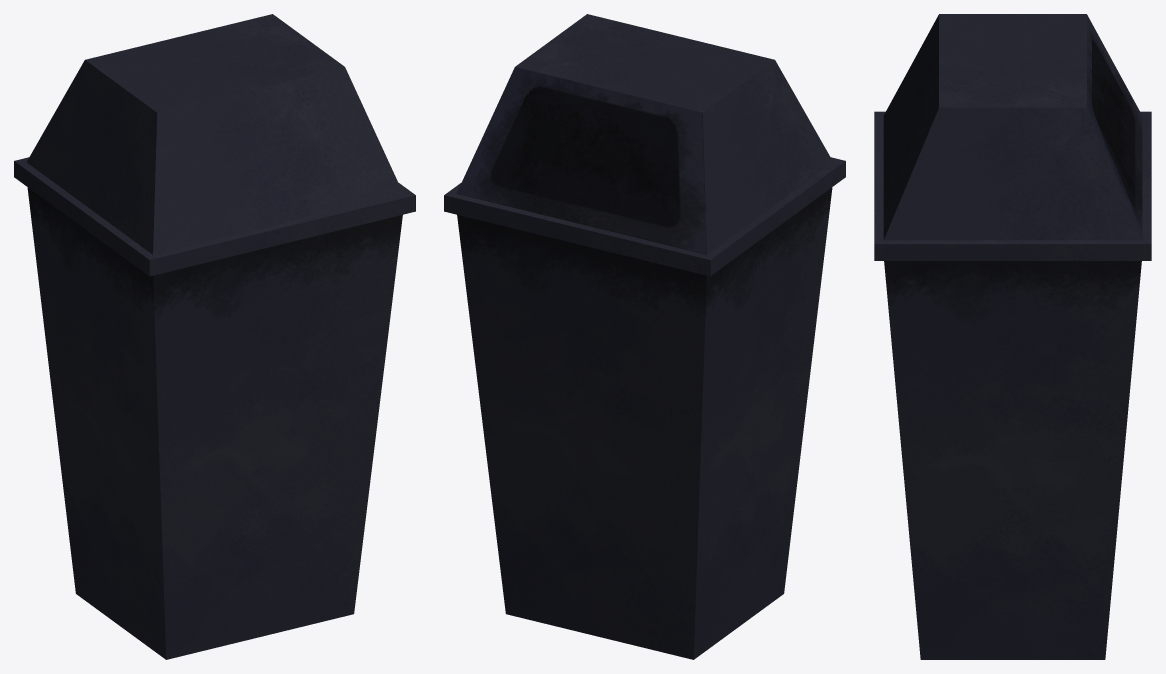
File: PapeleraInterior.fbx
3 renders of one model, left to right at view 1: azimuth 30°, elevation 25°; view 2: azimuth 150°, elevation 25°; view 3: azimuth 270°, elevation 25°, orthographic. The views are drawn at different scales.
Visible parts, largest first — view 1: trash can; view 2: trash can; view 3: trash can.
Boxes of the visible parts, <box> form: trash can: <box>14,14,415,659</box>; trash can: <box>444,14,845,659</box>; trash can: <box>874,14,1151,659</box>.
Size of the model in its own units: 106 by 206 by 93.75.
Materials: 1 (1 with a texture image).
